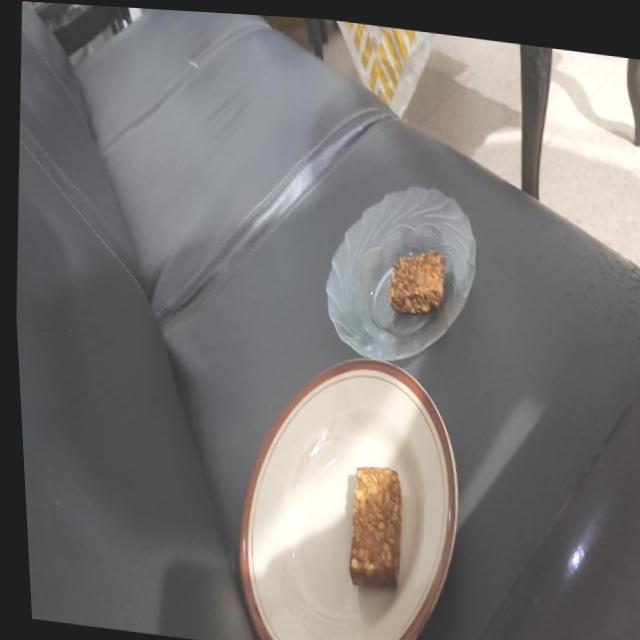tempe_goreng: (349, 467, 401, 588), (388, 250, 444, 313)
